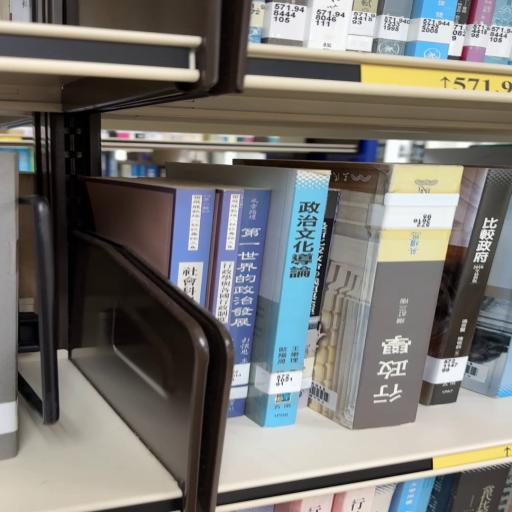reverse: (311, 164, 464, 431)
